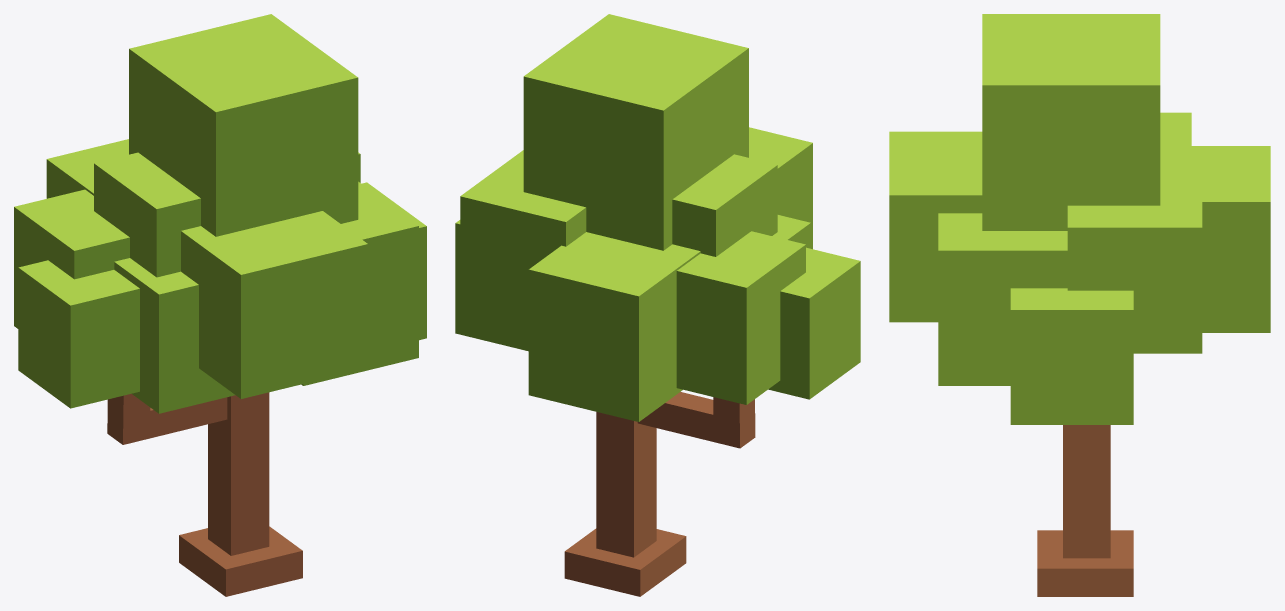
The model's file is tree2.obj.
The picture shows the model from 3 angles, left to right: view 1: azimuth 30°, elevation 25°; view 2: azimuth 150°, elevation 25°; view 3: azimuth 270°, elevation 25°; orthographic projection. The views are drawn at different scales.
Visible parts, largest first — view 1: ST_Prop_Tree_large_Untitled; view 2: ST_Prop_Tree_large_Untitled; view 3: ST_Prop_Tree_large_Untitled.
Part boxes in pixels (x1=…): ST_Prop_Tree_large_Untitled: x1=14, y1=14, x2=426, y2=596; ST_Prop_Tree_large_Untitled: x1=455, y1=14, x2=860, y2=596; ST_Prop_Tree_large_Untitled: x1=889, y1=14, x2=1270, y2=596.
Bounding box in the file's own units: 4.04 × 5.59 × 3.67.
Materials: 1 (1 with a texture image).
